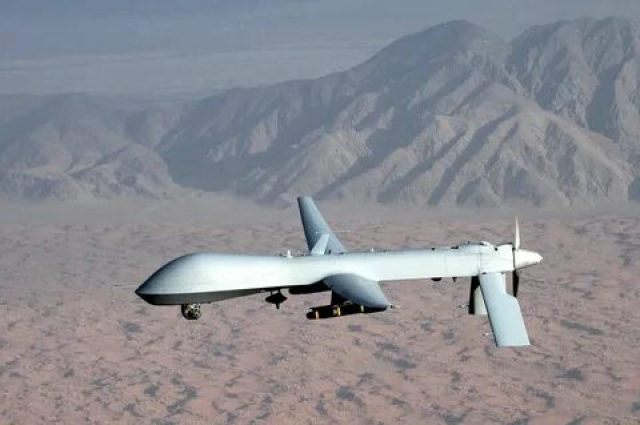military drone: (134, 195, 543, 346)
